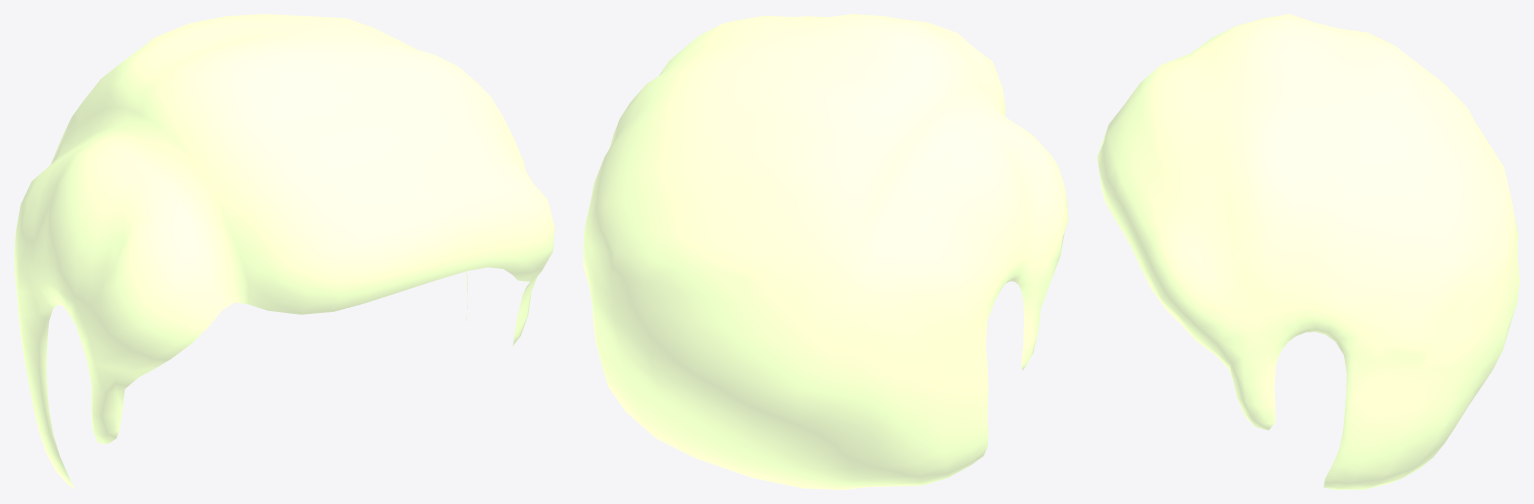
Rendered from hair_09.glb.
The picture shows the model from 3 angles, left to right: view 1: azimuth 30°, elevation 25°; view 2: azimuth 150°, elevation 25°; view 3: azimuth 270°, elevation 25°; orthographic projection. The views are drawn at different scales.
Visible parts, largest first — view 1: hair_09; view 2: hair_09; view 3: hair_09.
Boxes of the visible parts, bbox=[...] form: hair_09: bbox=[14, 14, 554, 489]; hair_09: bbox=[583, 14, 1068, 489]; hair_09: bbox=[1097, 14, 1519, 489].
Bounding box in the file's own units: 0.0086 × 0.00858 × 0.00835.
